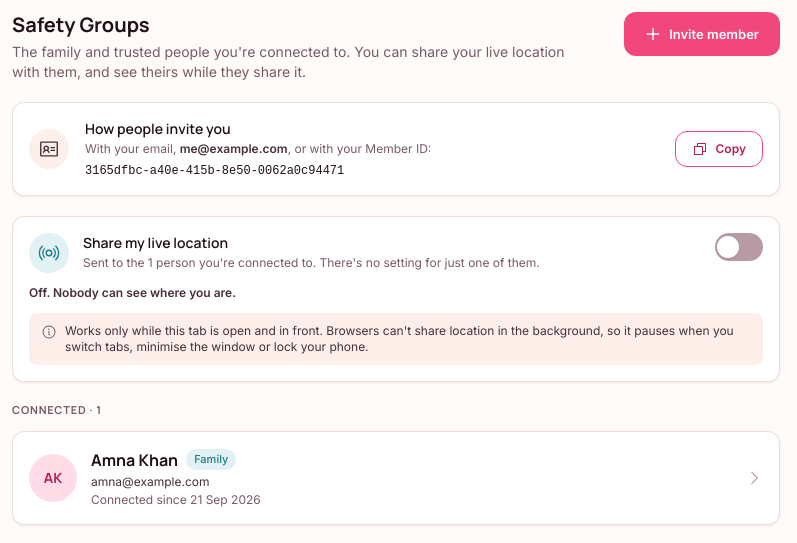
Safety Groups — live location › the list › says so, and switches itself off, when the browser refuses the position
Step 1. Click the switch named "Share my live location" → (739, 247), box [715,233,763,261]
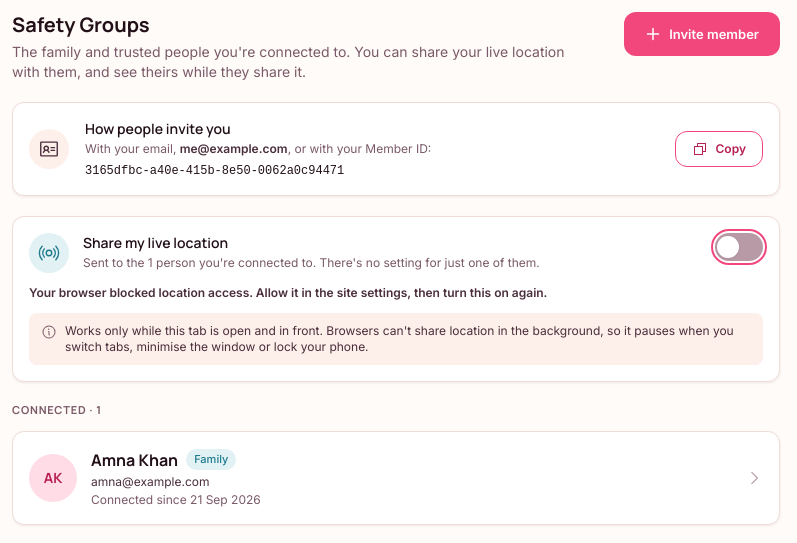
Expected: the text "Your browser blocked location access" is shown, [29,285,548,300]
